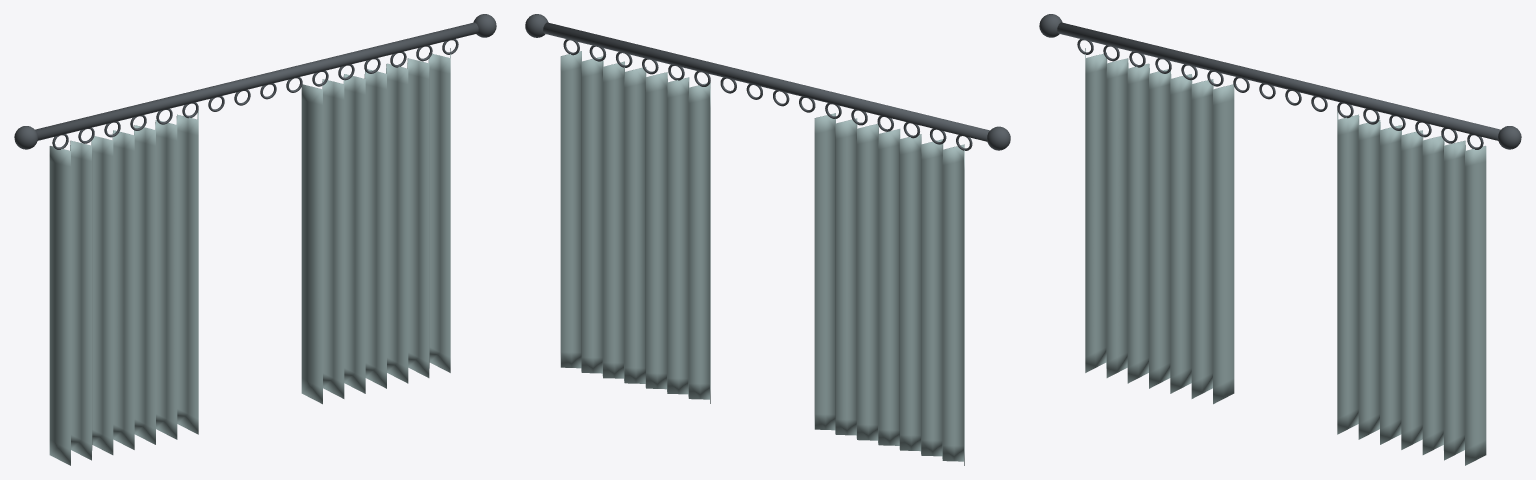
File: atelier-short-curtains.glb
3 renders of one model, left to right at view 1: azimuth 30°, elevation 25°; view 2: azimuth 150°, elevation 25°; view 3: azimuth 330°, elevation 25°, orthographic.
Parts seen in each view (by area): view 1: fabric.050, metal.050; view 2: fabric.050, metal.050; view 3: fabric.050, metal.050.
Part boxes in pixels (bbox=[...]): fabric.050: bbox=[49, 48, 450, 465]; metal.050: bbox=[14, 14, 496, 149]; fabric.050: bbox=[560, 51, 964, 465]; metal.050: bbox=[525, 14, 1010, 150]; fabric.050: bbox=[1085, 48, 1486, 465]; metal.050: bbox=[1039, 14, 1521, 149].
Bounding box in the file's own units: 2.09 × 1.44 × 0.0899.
